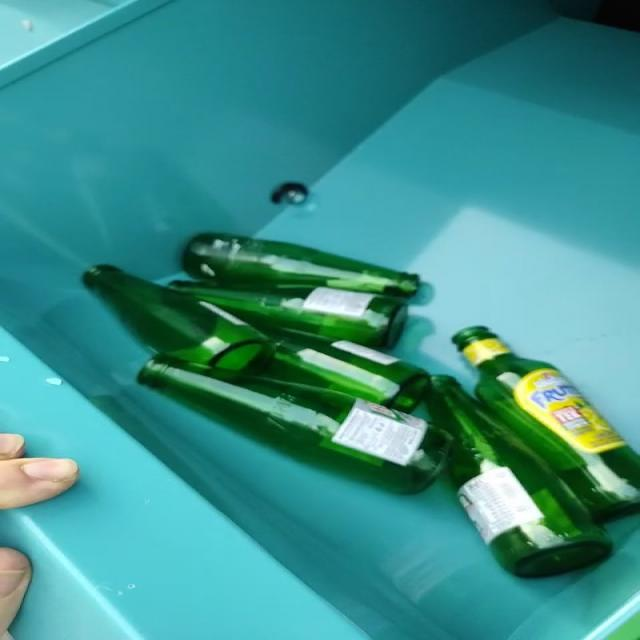glass: (83, 234, 640, 578)
